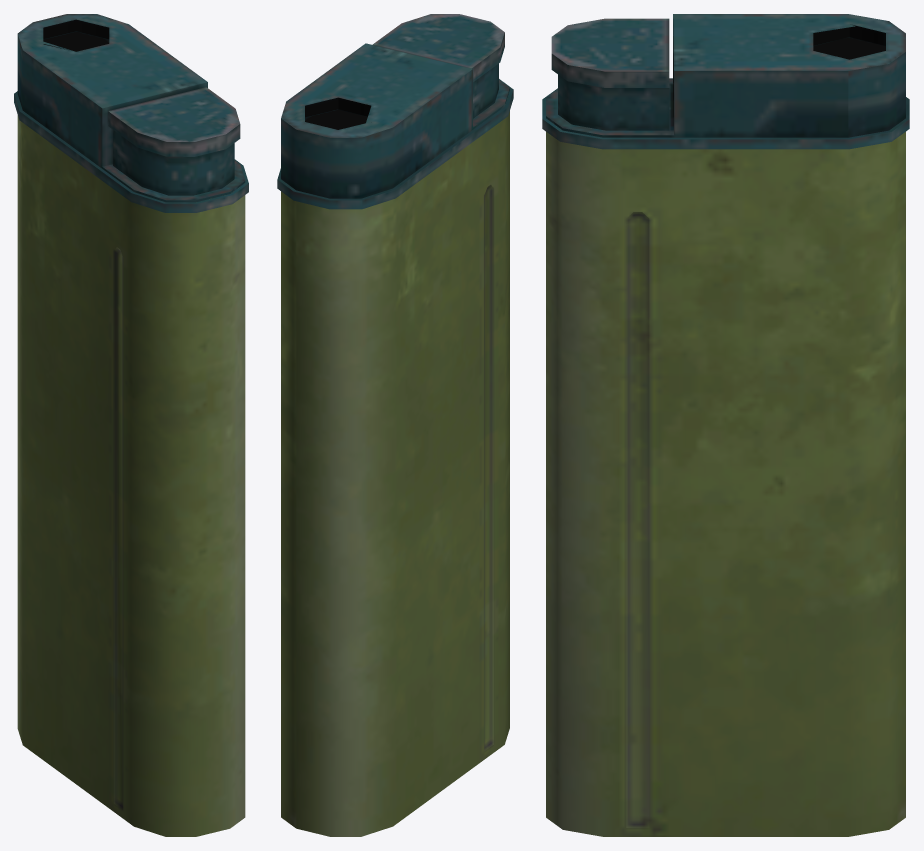
Rendered from lighter.DAE.
The picture shows the model from 3 angles, left to right: view 1: azimuth 30°, elevation 25°; view 2: azimuth 150°, elevation 25°; view 3: azimuth 270°, elevation 25°; orthographic projection. The views are drawn at different scales.
Parts seen in each view (by area): view 1: lighter_tank, lighter; view 2: lighter_tank, lighter; view 3: lighter_tank, lighter.
Part boxes in pixels (x1=…): lighter_tank: x1=17, y1=115, x2=245, y2=836; lighter: x1=14, y1=14, x2=248, y2=212; lighter_tank: x1=281, y1=111, x2=509, y2=836; lighter: x1=277, y1=14, x2=513, y2=209; lighter_tank: x1=546, y1=132, x2=905, y2=836; lighter: x1=542, y1=14, x2=909, y2=149.
Bounding box in the file's own units: 2.5 × 14.82 × 6.44.
